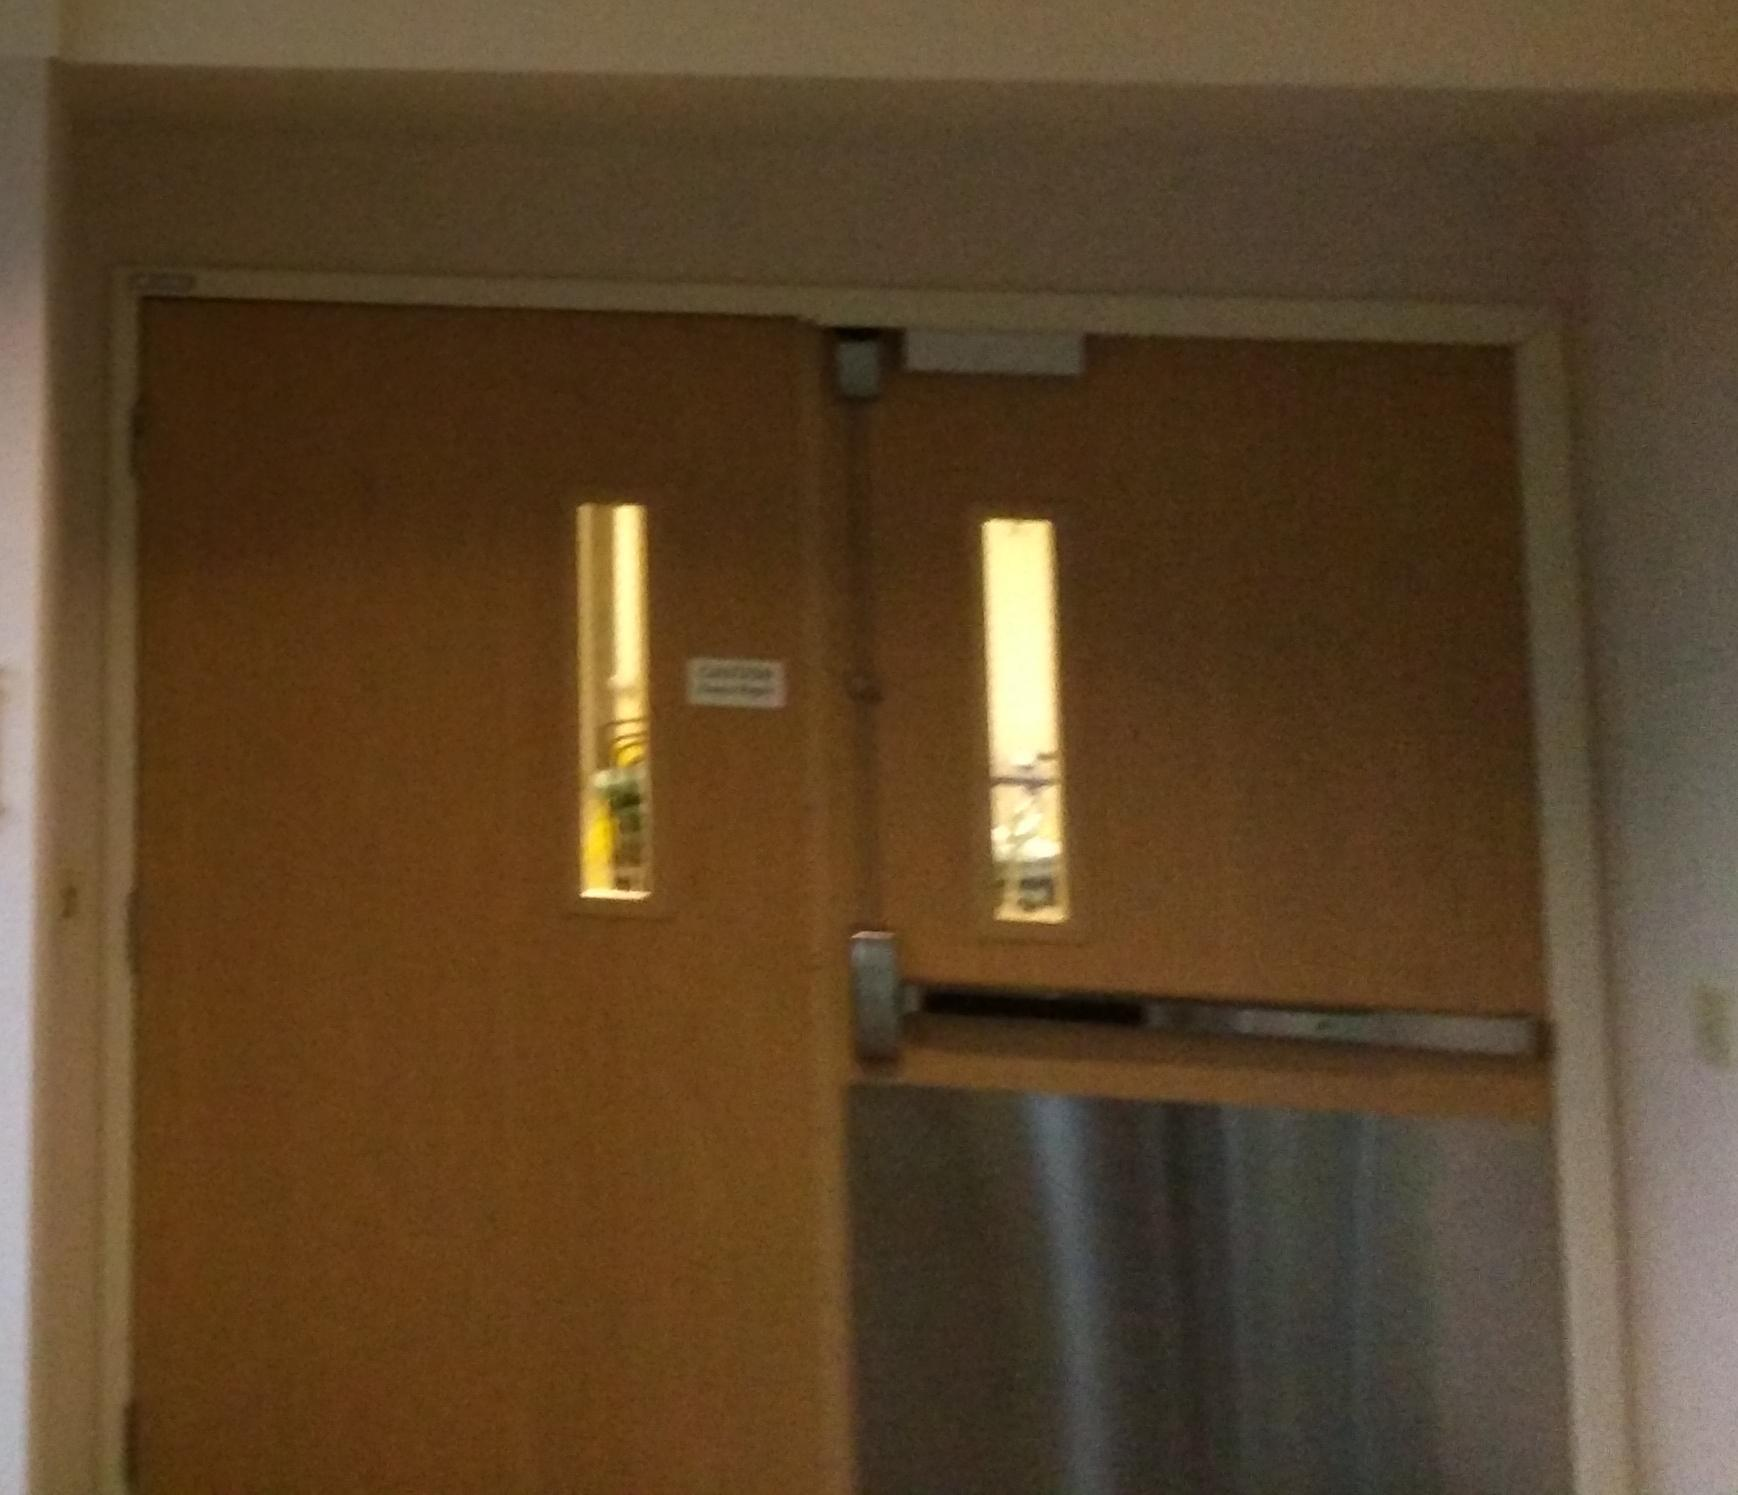door: (129, 282, 1583, 1495)
